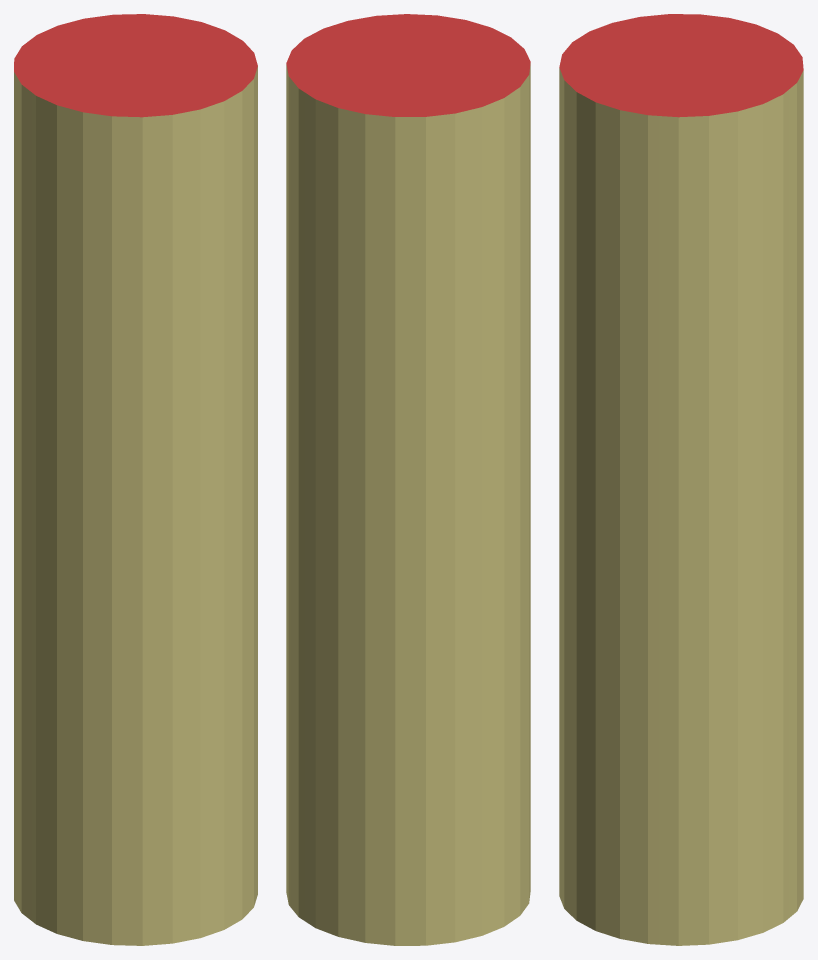
The picture shows the model from 3 angles, left to right: view 1: azimuth 30°, elevation 25°; view 2: azimuth 150°, elevation 25°; view 3: azimuth 270°, elevation 25°; orthographic projection.
Bounding box in the file's own units: 3.53 × 3.53 × 13.21.
